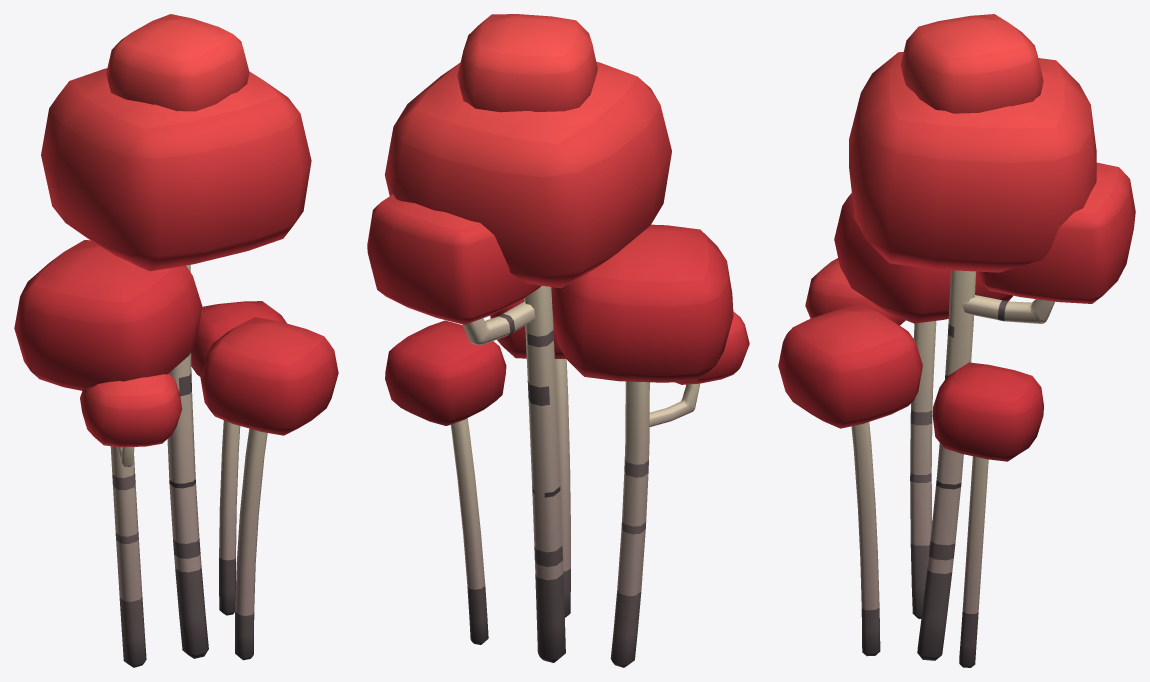
Rendered from birch_tree_col3_07.fbx.
3 renders of one model, left to right at view 1: azimuth 30°, elevation 25°; view 2: azimuth 150°, elevation 25°; view 3: azimuth 270°, elevation 25°, orthographic. The views are drawn at different scales.
Visible parts, largest first — view 1: birch_tree_SC_col3_07; view 2: birch_tree_SC_col3_07; view 3: birch_tree_SC_col3_07.
Boxes of the visible parts, x1,y1,x2,y2 form: birch_tree_SC_col3_07: (14, 14, 338, 667); birch_tree_SC_col3_07: (367, 14, 749, 667); birch_tree_SC_col3_07: (778, 14, 1135, 667).
Bounding box in the file's own units: 332 × 677 × 347.
